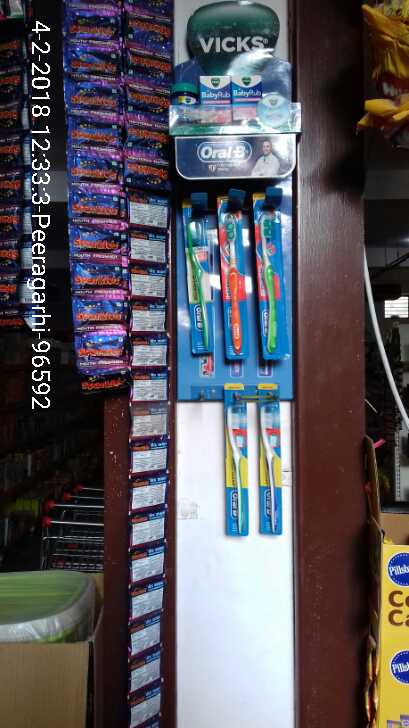pharmacy: (253, 190, 290, 359), (215, 195, 251, 364), (179, 199, 216, 352), (255, 382, 284, 532), (223, 378, 250, 536), (199, 73, 232, 123), (231, 75, 263, 118), (170, 82, 202, 124)
